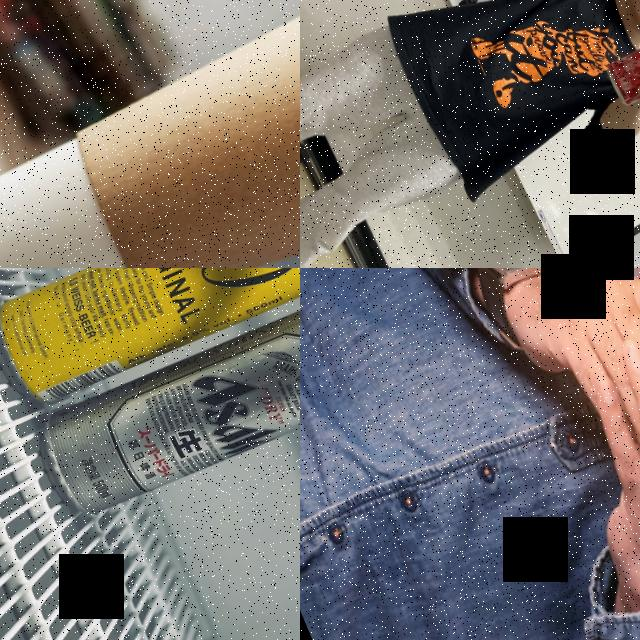can: (24, 276, 300, 528), (0, 268, 300, 416), (599, 22, 640, 109)
cup: (0, 0, 300, 268)
